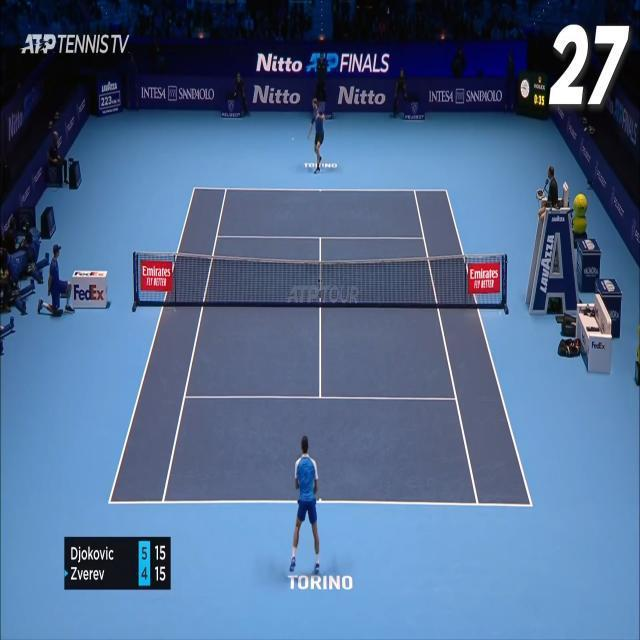court: (107, 187, 535, 507)
net: (133, 250, 508, 310)
player: (288, 434, 320, 576)
